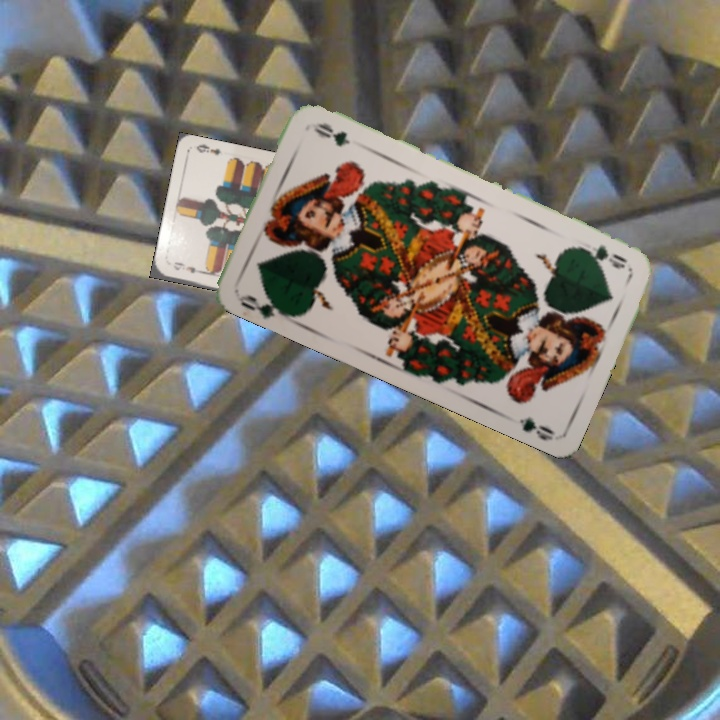E9: (169, 258, 207, 276)
GO: (234, 289, 292, 321), (574, 241, 631, 272)
